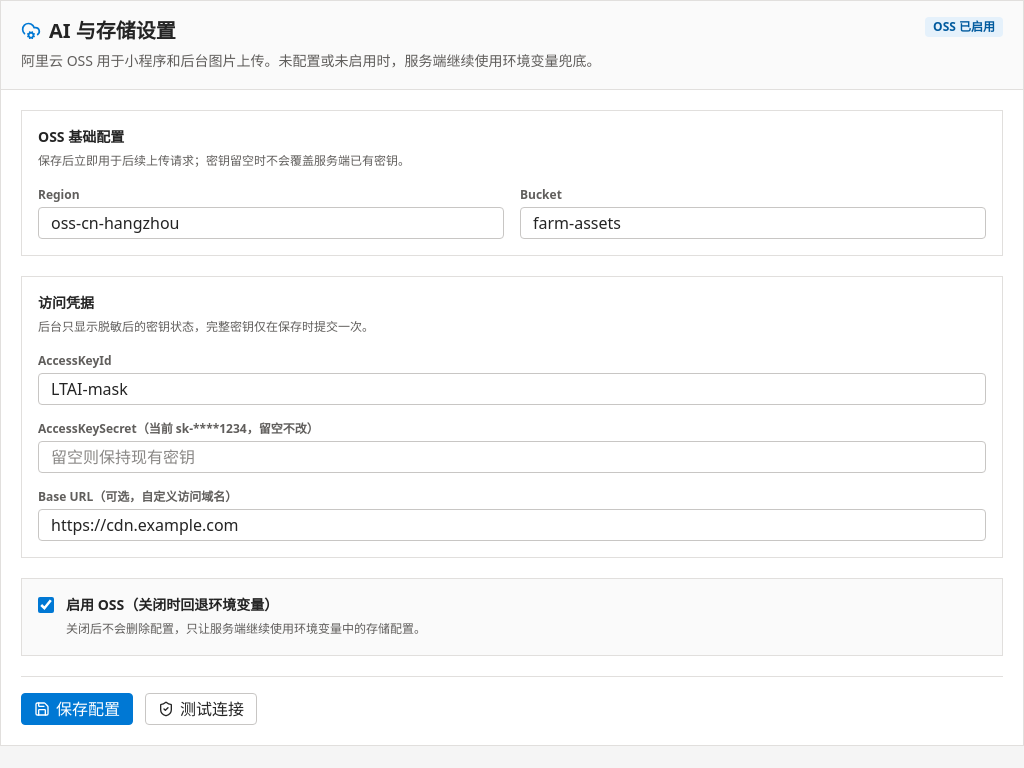
Scenario: SystemSettings Fluent UI › renders current OSS config, saves trimmed values without overwriting an empty secret, and tests connection
The image size is (1024, 768).
Expected: the field showing "farm-assets" is shown, [520, 207, 986, 239]
Expected: the text "AccessKeySecret（当前 sk-****1234，留空不改）" is shown, [38, 420, 319, 437]
Type " oss-cn-shanghai " into the field labelled "Region" at (271, 223), box [38, 207, 504, 239]
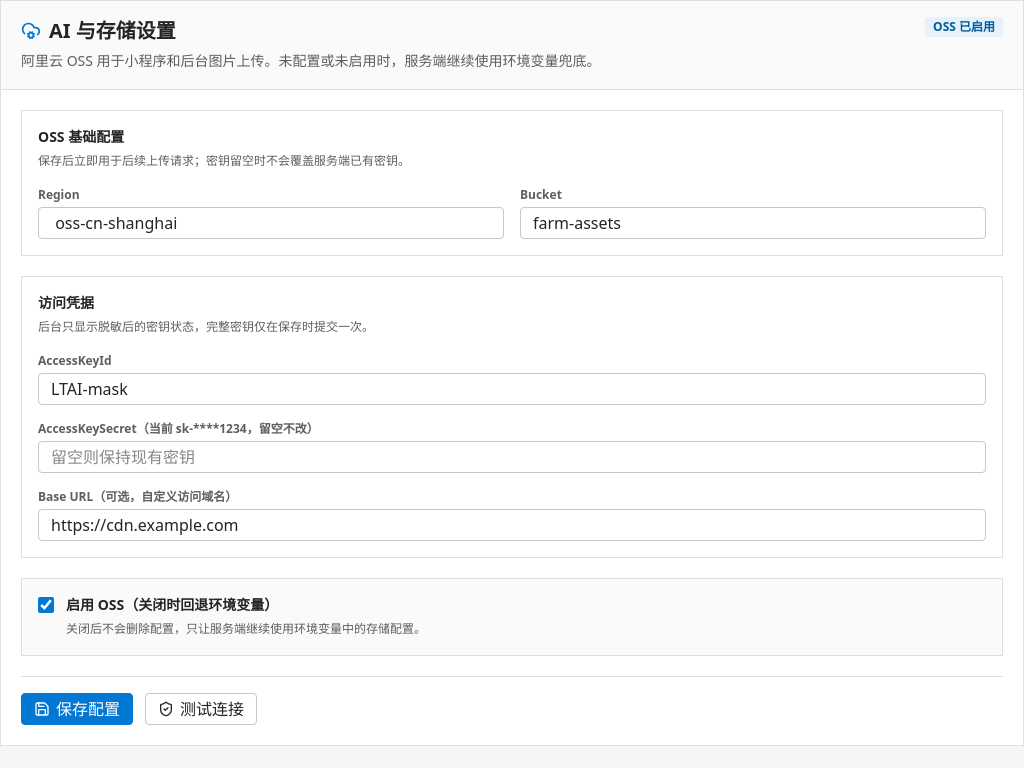
Replace the text in the field labelled "Bucket" with " farm-assets-prod " at (753, 223), box [520, 207, 986, 239]
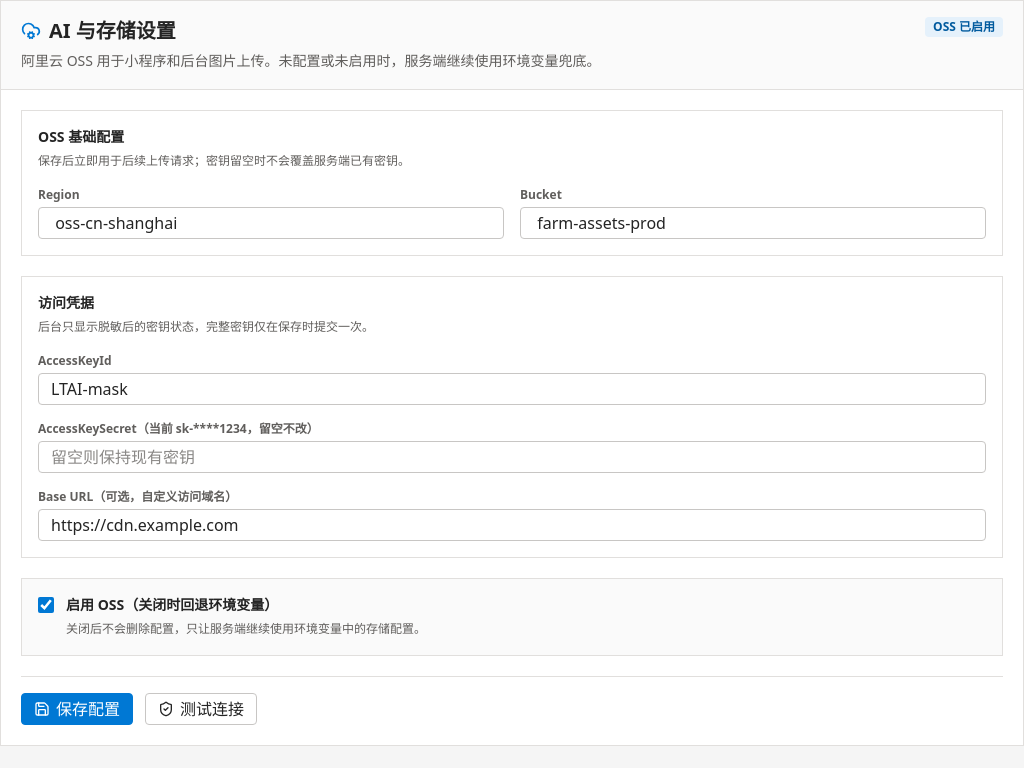
Replace the text in the field labelled "AccessKeyId" with " LTAI-new " at (512, 389), box [38, 373, 986, 405]
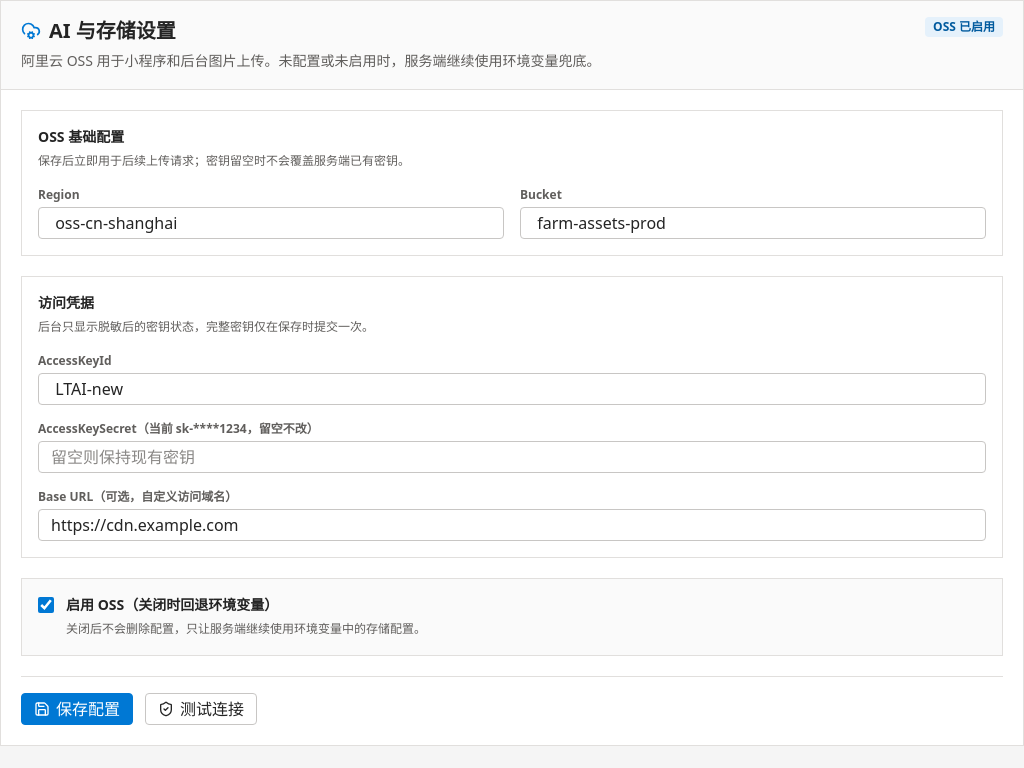
Type " https://cdn.example.com/assets " into the field labelled "Base URL（可选，自定义访问域名）" at (512, 525), box [38, 509, 986, 541]
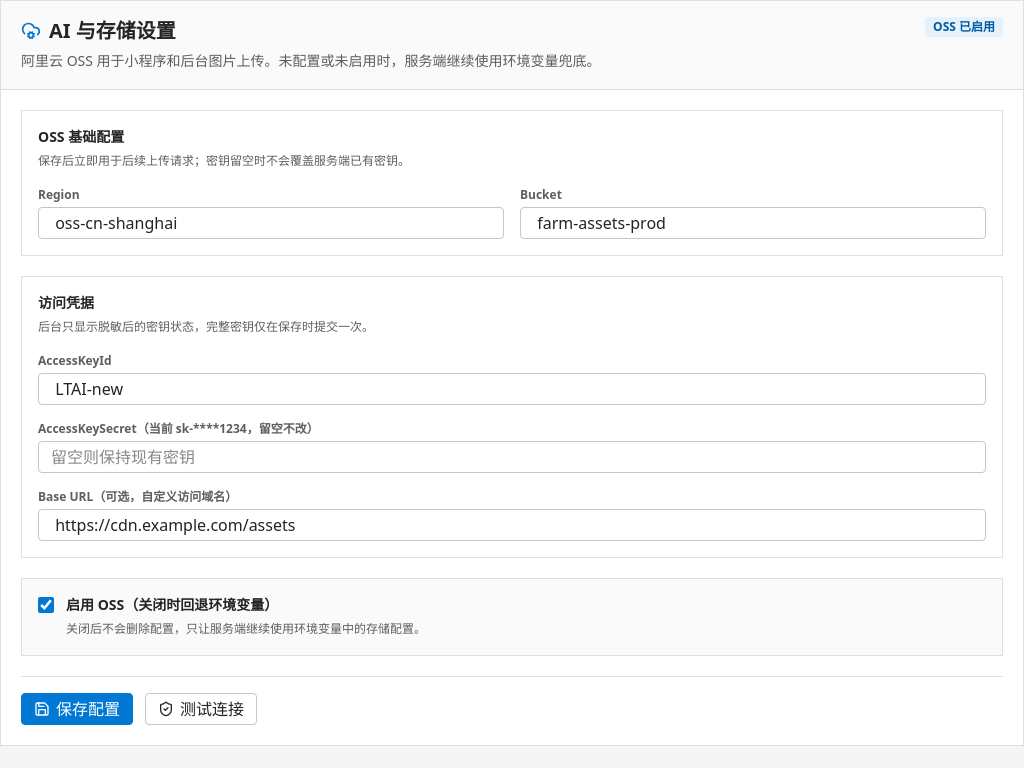
Click the button "保存配置" at (77, 709), box [21, 693, 133, 725]
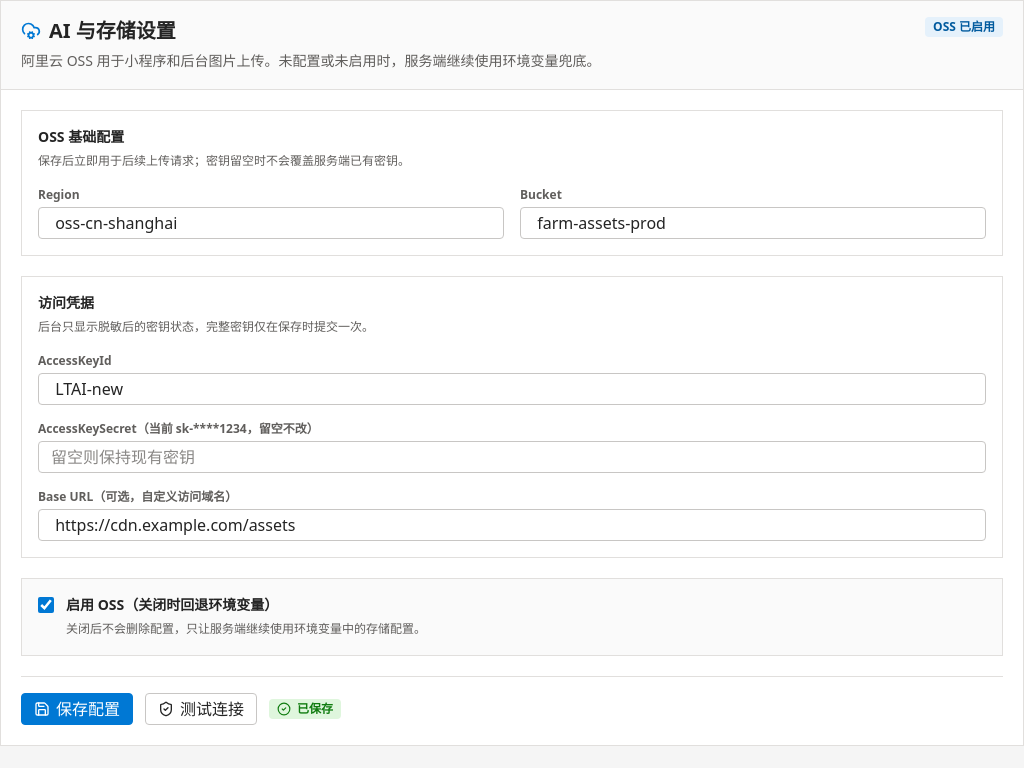
Click the button "测试连接" at (201, 709), box [145, 693, 257, 725]
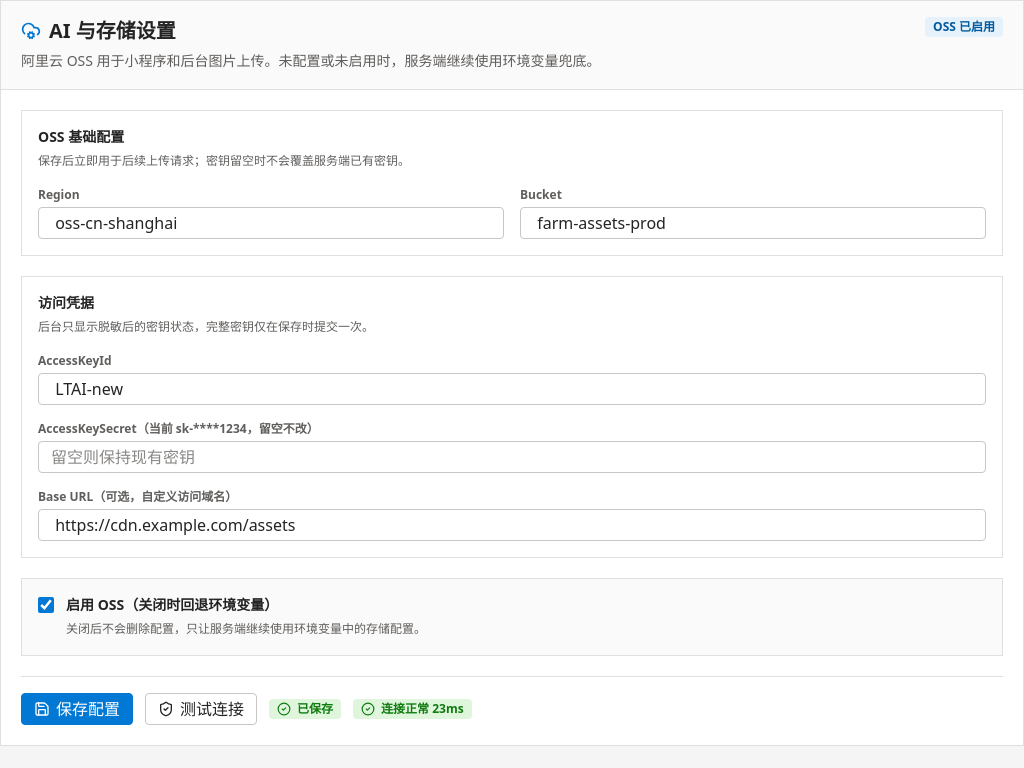
Now the text "连接正常 23ms" is shown, box [353, 699, 472, 719]
